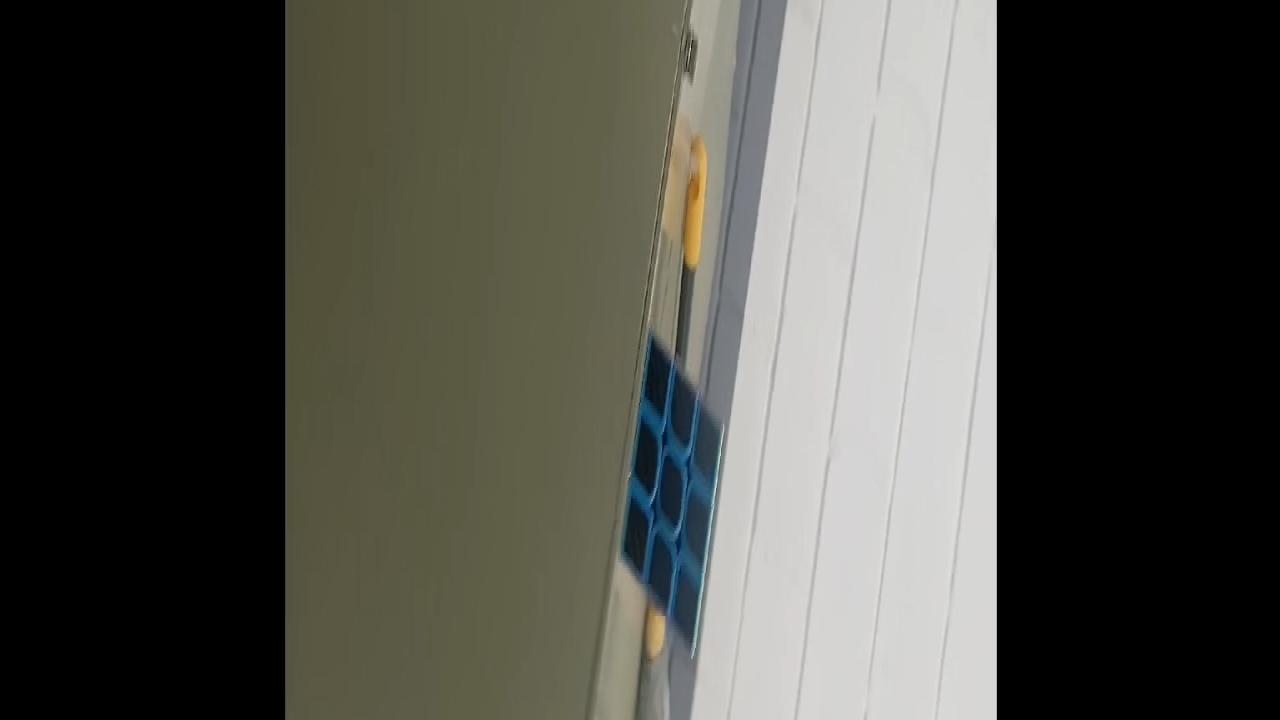Cube: (616, 316, 726, 680)
